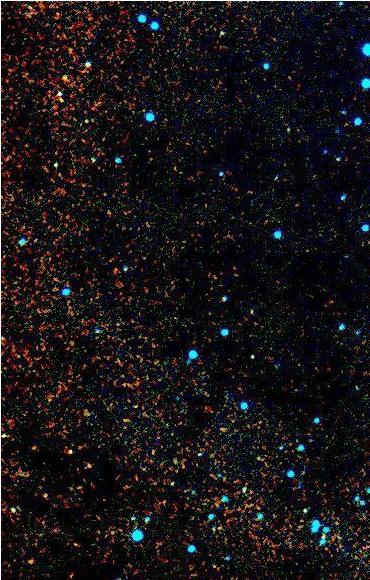star: (16, 545, 46, 575)
